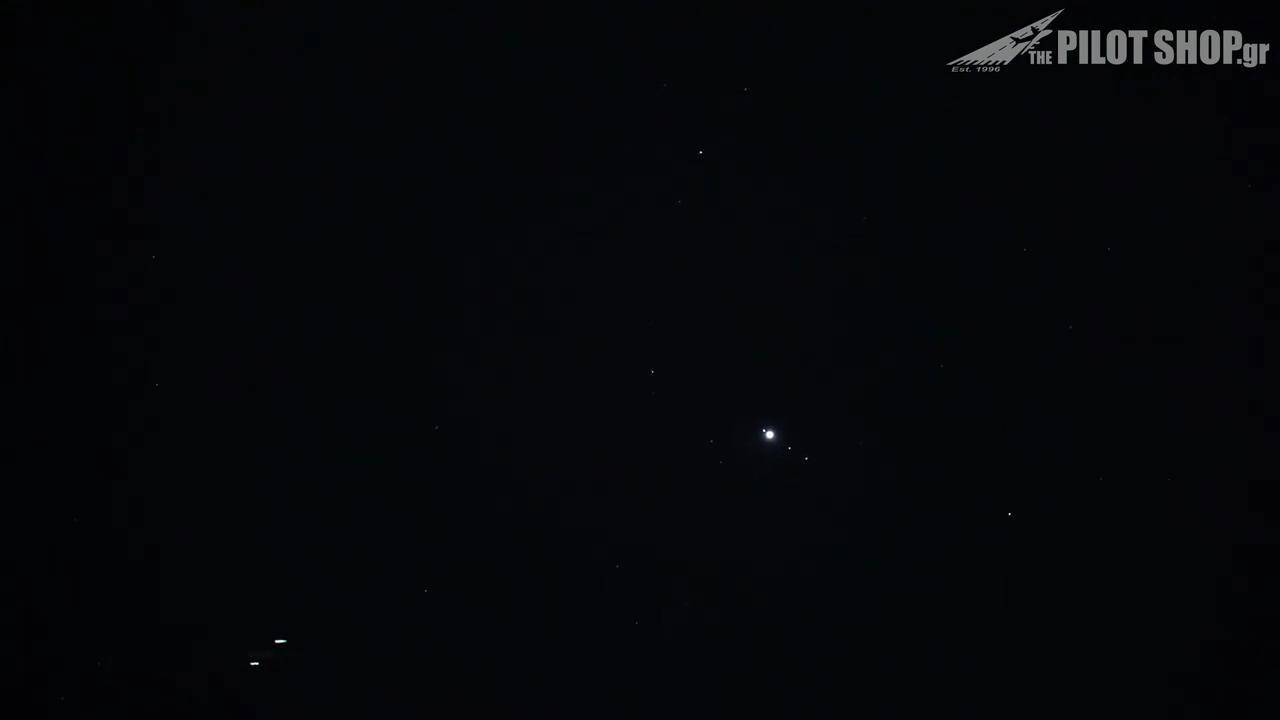Plane: (232, 627, 304, 681)
